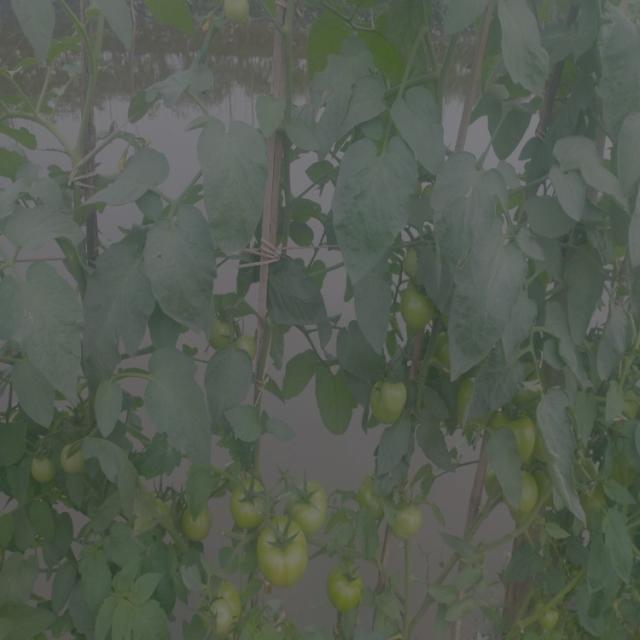tomato: (256, 518, 314, 587), (491, 400, 543, 469), (367, 366, 415, 428), (284, 480, 332, 531), (329, 564, 371, 617), (397, 287, 439, 338), (205, 580, 241, 635), (506, 475, 545, 523), (200, 306, 240, 351), (387, 500, 427, 545), (231, 478, 267, 528), (353, 476, 391, 521), (183, 498, 216, 544), (24, 443, 56, 489), (60, 443, 91, 484), (148, 482, 177, 524), (458, 376, 478, 432), (533, 604, 564, 639), (234, 334, 260, 365), (401, 250, 422, 283)
